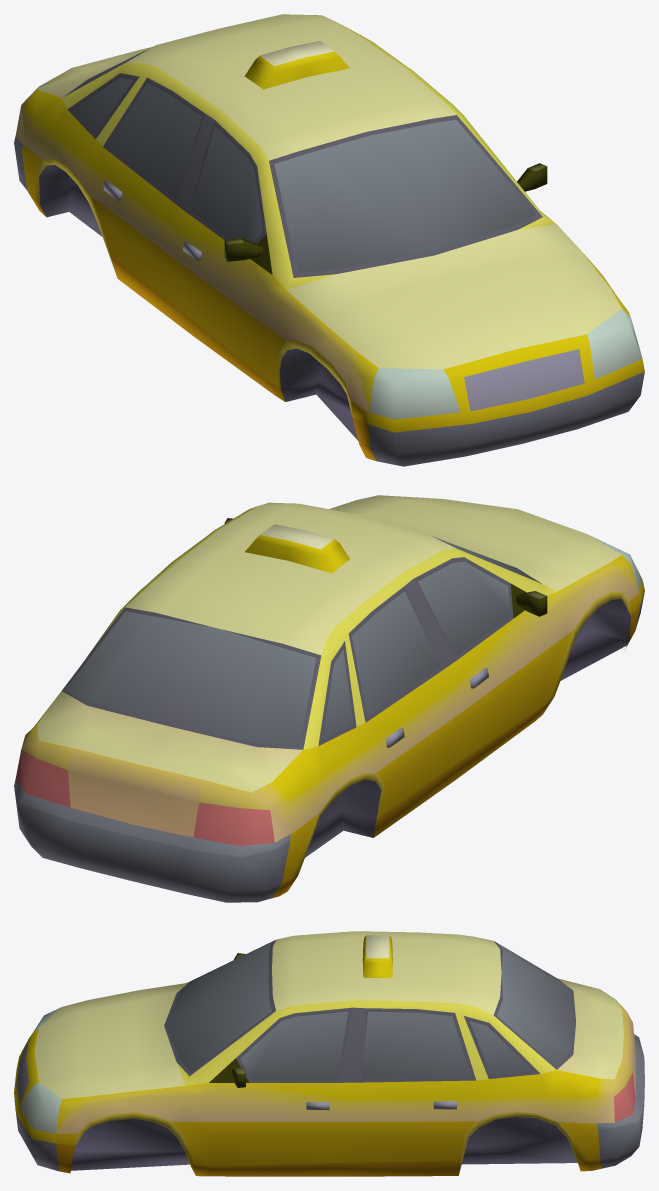
The model's file is taxi.glb.
3 renders of one model, top to bottom at view 1: azimuth 30°, elevation 25°; view 2: azimuth 150°, elevation 25°; view 3: azimuth 270°, elevation 25°, orthographic. The views are drawn at different scales.
Parts seen in each view (by area): view 1: taxi; view 2: taxi; view 3: taxi.
Boxes of the visible parts, x1,y1,x2,y2 form: taxi: (14, 14, 644, 466); taxi: (14, 495, 644, 902); taxi: (14, 931, 644, 1176).
Bounding box in the file's own units: 0.3142 × 0.219 × 0.6897.
